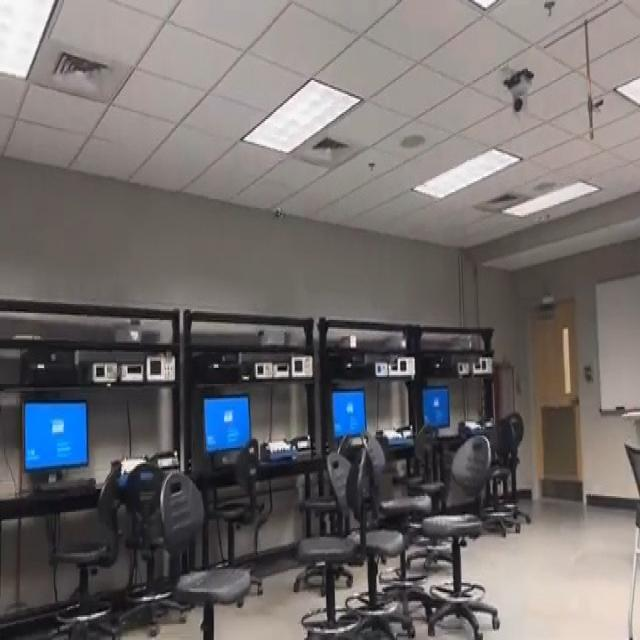drone: (267, 192, 294, 231)
